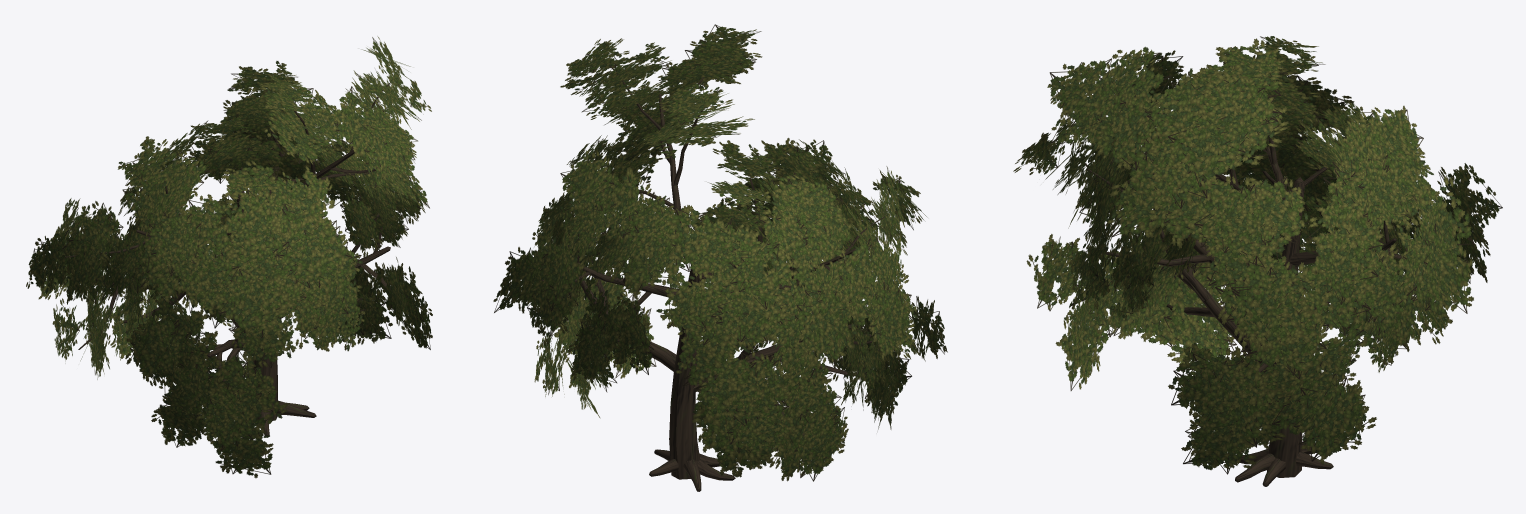
The model's file is DarkOak_2_LOD1.gltf.
3 renders of one model, left to right at view 1: azimuth 30°, elevation 25°; view 2: azimuth 150°, elevation 25°; view 3: azimuth 270°, elevation 25°, orthographic. The views are drawn at different scales.
Visible parts, largest first — view 1: DarkOak_2_LOD1; view 2: DarkOak_2_LOD1; view 3: DarkOak_2_LOD1.
Boxes of the visible parts, x1,y1,x2,y2 form: DarkOak_2_LOD1: (26,36,432,478); DarkOak_2_LOD1: (493,24,947,491); DarkOak_2_LOD1: (1013,36,1502,486).
Size of the model in its own units: 18.09 by 17.42 by 17.26.
2 materials, 2 textured.
